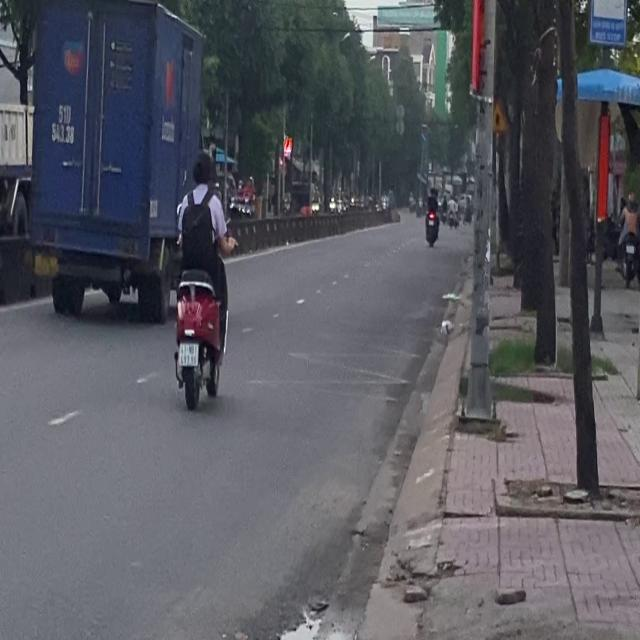licenseplate: (169, 146, 232, 412)
motorcyclist: (190, 149, 213, 187)
nohelmet: (179, 342, 197, 364)
